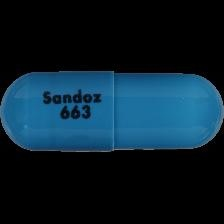69189-2176: (0, 0, 224, 224)
